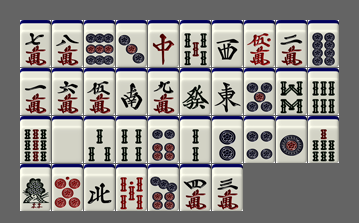0m: (244, 20, 275, 67)
0p: (52, 164, 83, 211)
0s: (116, 164, 147, 211)
1m: (20, 68, 51, 115)
1p: (276, 116, 307, 163)
1s: (20, 164, 51, 211)
1z: (212, 68, 243, 115)
2m: (276, 20, 307, 67)
2p: (212, 116, 243, 163)
2s: (180, 116, 211, 163)
2z: (116, 68, 147, 115)
3m: (212, 164, 243, 211)
3p: (116, 20, 147, 67)
3s: (84, 116, 115, 163)
3z: (212, 20, 243, 67)
4m: (180, 164, 211, 211)
4p: (244, 116, 275, 163)
4s: (116, 116, 147, 163)
4z: (84, 164, 115, 211)
5m: (84, 68, 115, 115)
5p: (244, 68, 275, 115)
5s: (180, 20, 211, 67)
5z: (52, 116, 83, 163)
6m: (52, 68, 83, 115)
6p: (148, 116, 179, 163)
6s: (308, 68, 339, 115)
6z: (180, 68, 211, 115)
7m: (20, 20, 51, 67)
7p: (148, 164, 179, 211)
7s: (308, 116, 339, 163)
7z: (148, 20, 179, 67)
8m: (52, 20, 83, 67)
8p: (308, 20, 339, 67)
8s: (276, 68, 307, 115)
9m: (148, 68, 179, 115)
9p: (84, 20, 115, 67)
9s: (20, 116, 51, 163)
